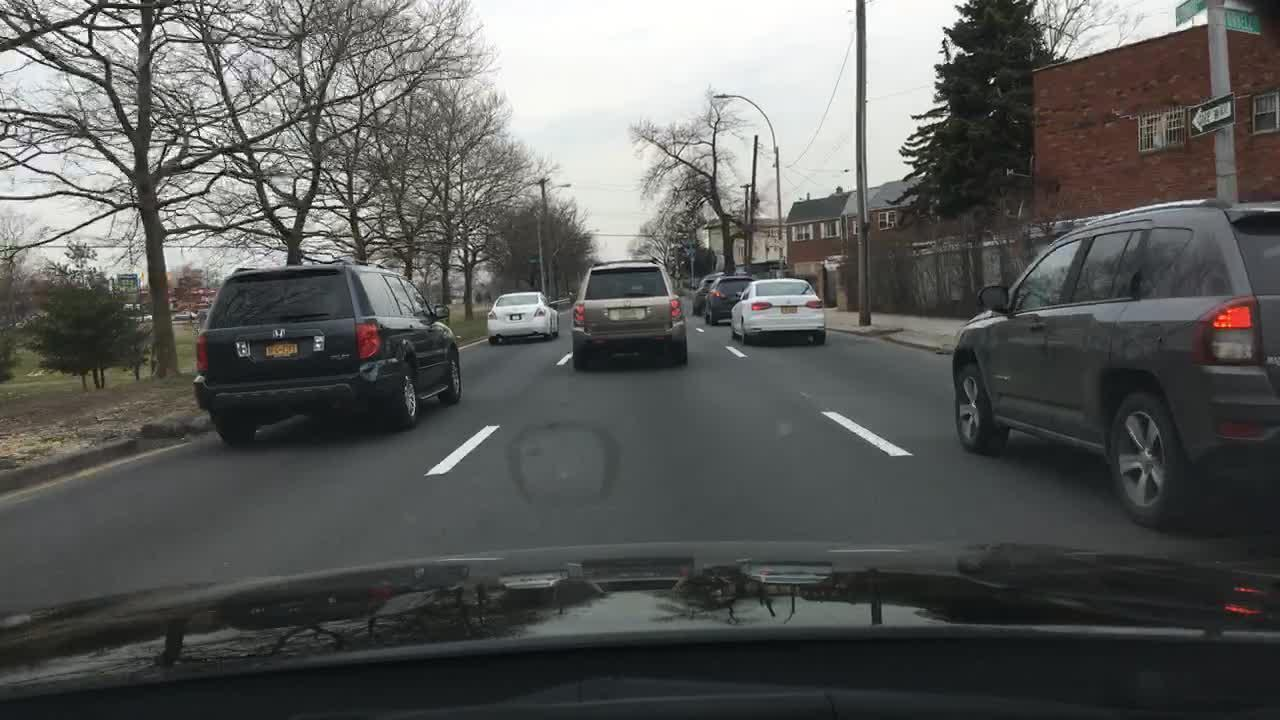Honda: (265, 322, 293, 346)
